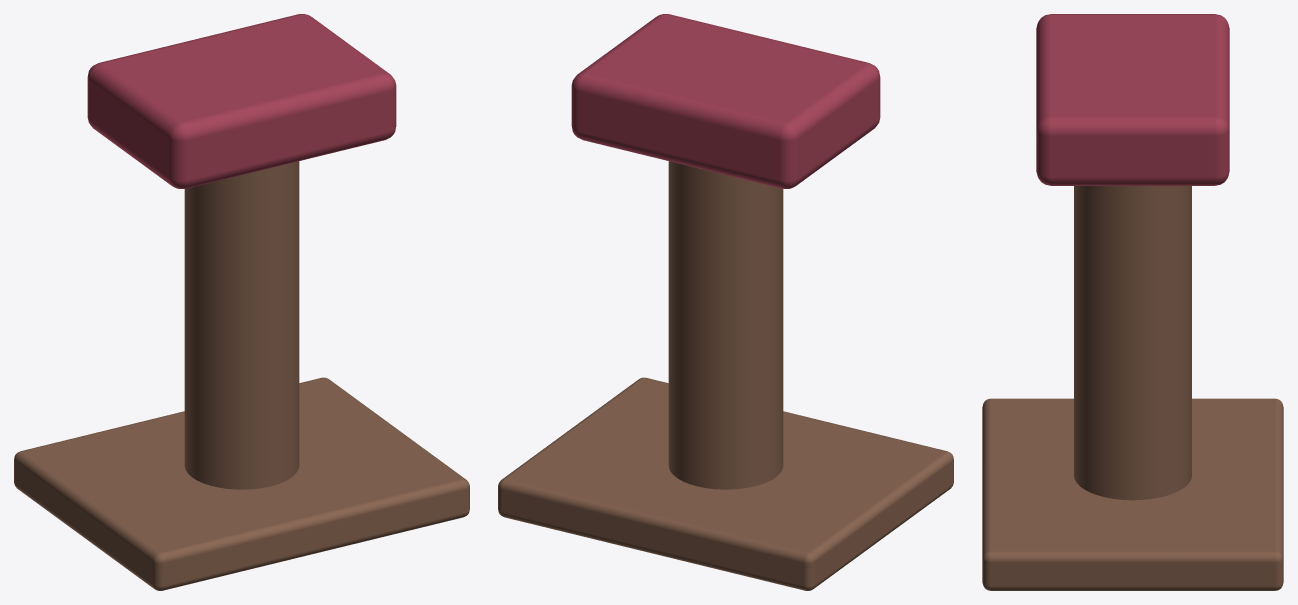
File: griffin-airmail-roost-and-posthouse-talon-care-rest-6814c98c__30511.glb
3 renders of one model, left to right at view 1: azimuth 30°, elevation 25°; view 2: azimuth 150°, elevation 25°; view 3: azimuth 270°, elevation 25°, orthographic. The views are drawn at different scales.
Parts seen in each view (by area): view 1: talon-care-rest; view 2: talon-care-rest; view 3: talon-care-rest.
Part boxes in pixels (x1,y1,x2,y2): talon-care-rest: (14, 14, 469, 590); talon-care-rest: (498, 14, 953, 590); talon-care-rest: (982, 14, 1283, 590).
Bounding box in the file's own units: 0.35 × 0.46 × 0.28.
